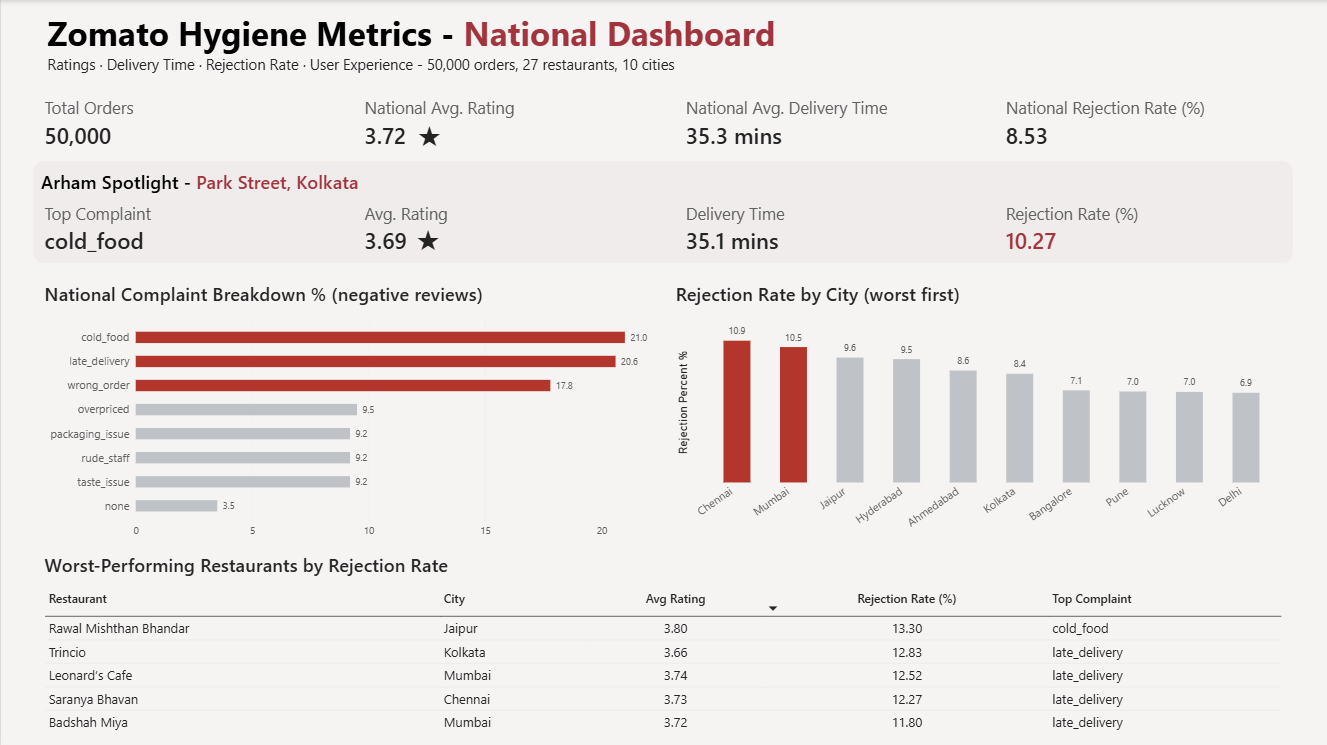

What the dashboard file says about the page in this screenshot:
{"tool":"powerbi","page":{"name":"Page 1","canvas":[1920,1080],"ordinal":0},"visuals":[{"type":"cardVisual","fields":{"Data":["National_Summary.Total Orders Display"]},"box":[47,130.8,432,96],"z":0},{"type":"cardVisual","fields":{"Data":["Sum(National_Summary.Avg Delivery Time (min))"]},"box":[975,130.8,432,96],"z":1000},{"type":"cardVisual","fields":{"Data":["Sum(National_Summary.Rejection Rate (%))"]},"box":[1439,130.8,432,96],"z":2000},{"type":"cardVisual","fields":{"Data":["Sum(National_Summary.Avg Rating)"]},"box":[511,130.8,432,96],"z":3000},{"type":"clusteredBarChart","title":"National Complaint Breakdown % (negative reviews)","fields":{"Category":["Complaint_Breakdown.Complaint Category"],"Y":["Avg(Complaint_Breakdown.Percent of Negative Reviews)"]},"box":[47.2,392.5,913.9,405.4],"z":4000},{"type":"clusteredColumnChart","title":"Rejection Rate by City (worst first)","fields":{"Category":["City_Summary.City"],"Y":["Sum(City_Summary.Rejection Rate (%))"]},"box":[961.3,393.2,911.7,405.4],"z":5000},{"type":"tableEx","title":"Worst-Performing Restaurants by Rejection Rate","fields":{"Values":["Restaurant_Summary.Restaurant","Restaurant_Summary.City","Sum(Restaurant_Summary.Avg Rating)","Sum(Restaurant_Summary.Rejection Rate (%))","Restaurant_Summary.Top Complaint"]},"box":[47.1,785.4,1824.1,295],"z":6000},{"type":"textbox","box":[47.6,15.2,1825.2,97.1],"z":7000},{"type":"textbox","box":[46.7,234.2,1823.3,147.4],"z":8000},{"type":"cardVisual","fields":{"Data":["City_Summary.Arsalan Delivery Time"]},"box":[974.8,278.2,431.1,106.4],"z":9000},{"type":"cardVisual","fields":{"Data":["City_Summary.Arsalan Rejection Rate"]},"box":[1439.5,278.2,432,106.6],"z":10000},{"type":"cardVisual","fields":{"Data":["City_Summary.Arsalan Rating"]},"box":[510.1,278.2,431.1,106.4],"z":11000},{"type":"cardVisual","fields":{"Data":["City_Summary.Arsalan Top Complaint"]},"box":[47.3,278.2,432,106.6],"z":12000},{"type":"textbox","box":[601.8,164.4,37.3,61.6],"z":13000},{"type":"textbox","box":[601.6,315.5,37.3,61.6],"z":13001}]}

Visuals, with their boxes in screenshot pixels (x1, y1, x2, y2), scaled from the page's 1920x1080 canvas onto the 1327x745 screenshot:
cardVisual - National_Summary.Total Orders Display: x1=32 y1=90 x2=331 y2=156
cardVisual - Sum(National_Summary.Avg Delivery Time (min)): x1=674 y1=90 x2=972 y2=156
cardVisual - Sum(National_Summary.Rejection Rate (%)): x1=995 y1=90 x2=1293 y2=156
cardVisual - Sum(National_Summary.Avg Rating): x1=353 y1=90 x2=652 y2=156
"National Complaint Breakdown % (negative reviews)" clusteredBarChart: x1=33 y1=271 x2=664 y2=550
"Rejection Rate by City (worst first)" clusteredColumnChart: x1=664 y1=271 x2=1295 y2=551
"Worst-Performing Restaurants by Rejection Rate" tableEx: x1=33 y1=542 x2=1293 y2=744
textbox: x1=33 y1=10 x2=1294 y2=77
textbox: x1=32 y1=162 x2=1292 y2=263
cardVisual - City_Summary.Arsalan Delivery Time: x1=674 y1=192 x2=972 y2=265
cardVisual - City_Summary.Arsalan Rejection Rate: x1=995 y1=192 x2=1293 y2=265
cardVisual - City_Summary.Arsalan Rating: x1=353 y1=192 x2=651 y2=265
cardVisual - City_Summary.Arsalan Top Complaint: x1=33 y1=192 x2=331 y2=265
textbox: x1=416 y1=113 x2=442 y2=156
textbox: x1=416 y1=218 x2=442 y2=260
